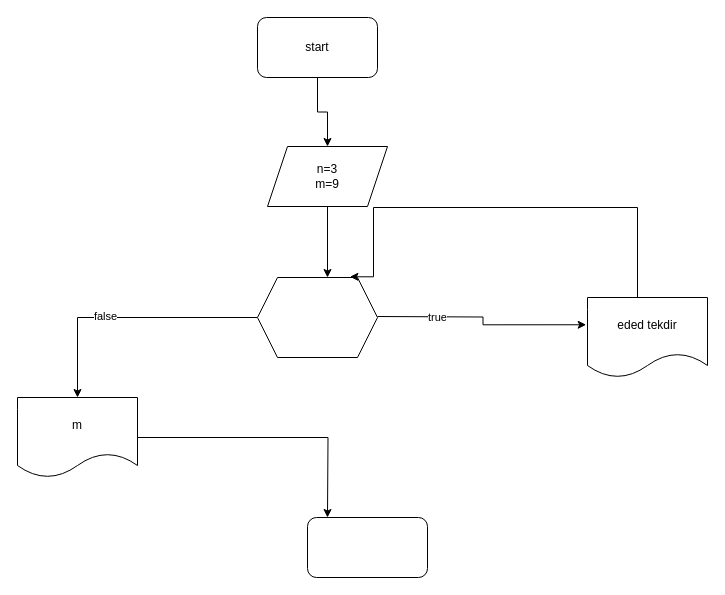
The diagram is 725 pixels wide and 595 high, and some of its shapes have lost their labels. Each missing label, with the box of its shape:
end: (306, 516, 428, 578)
i=n;i<m;i++: (256, 276, 378, 358)
